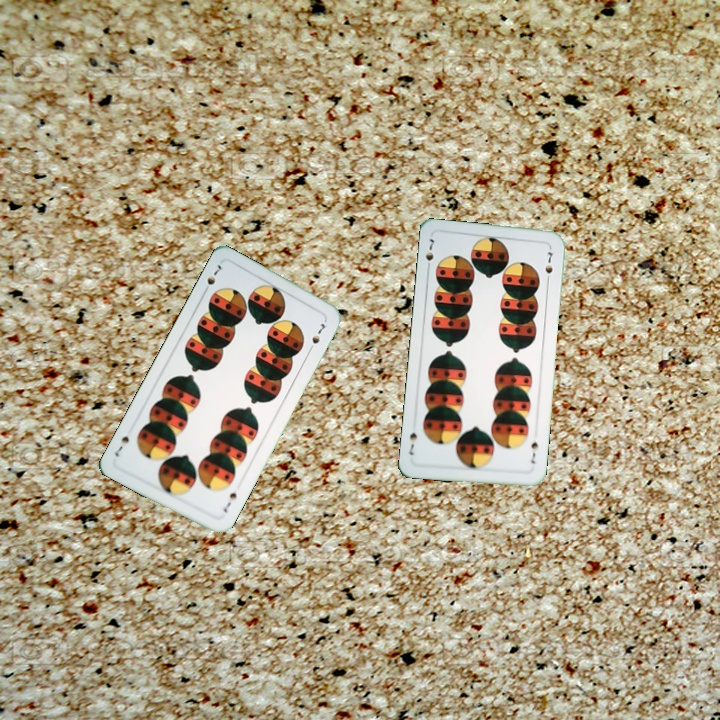S7: (199, 260, 224, 297), (422, 234, 436, 274), (219, 488, 239, 515), (527, 432, 540, 466)
